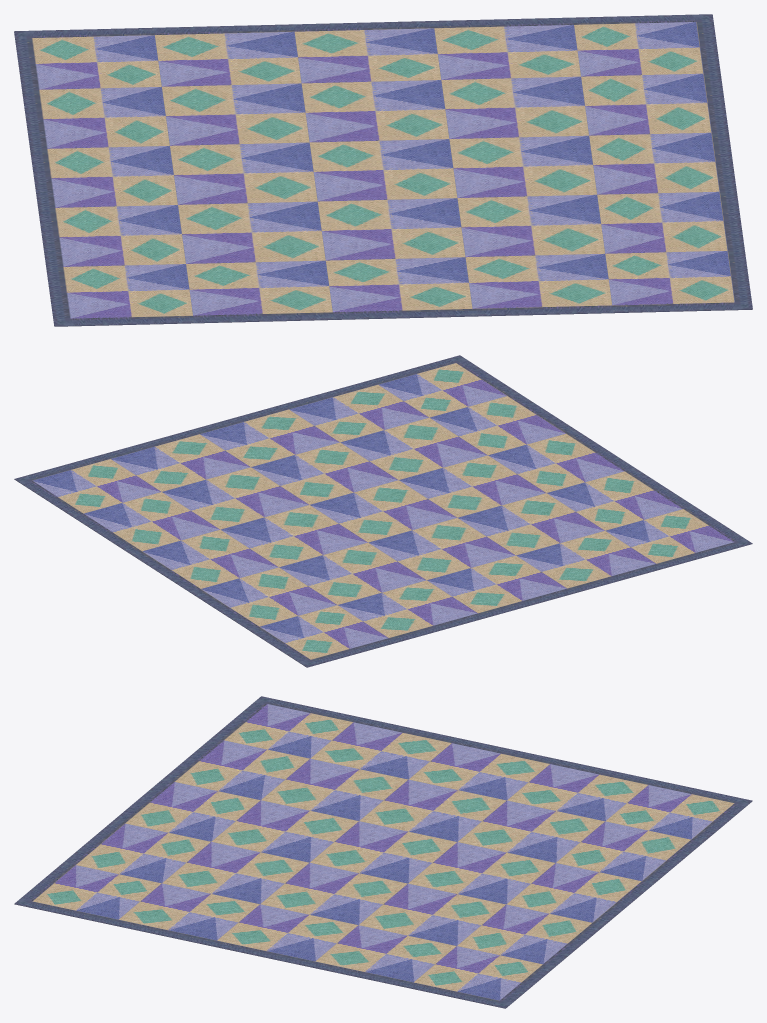
The picture shows the model from 3 angles, top to bottom: view 1: azimuth 30°, elevation 25°; view 2: azimuth 150°, elevation 25°; view 3: azimuth 270°, elevation 25°; orthographic projection. The views are drawn at different scales.
Visible parts, largest first — view 1: Joint_0_Object_0; view 2: Joint_0_Object_0; view 3: Joint_0_Object_0.
Part boxes in pixels (x1,y1,x2,y2): Joint_0_Object_0: [14, 14, 752, 326]; Joint_0_Object_0: [14, 355, 752, 667]; Joint_0_Object_0: [14, 696, 752, 1008].
Size of the model in its own units: 3652 by 1.51 by 3652.
1 material, 1 textured.
